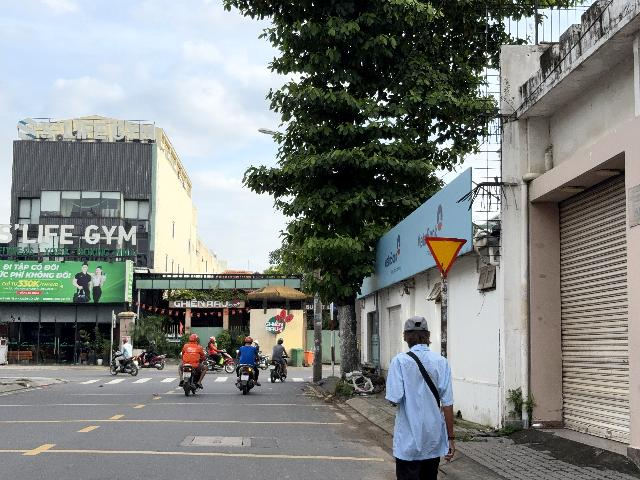giao-nhau-voi-duong-uu-tien: (422, 236, 467, 277)
